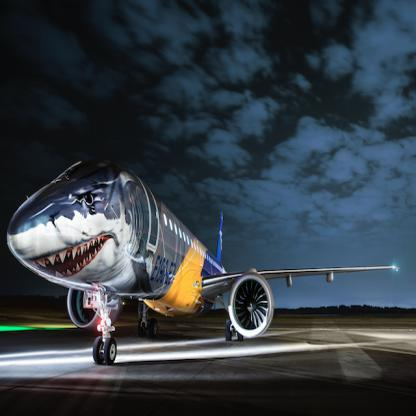CIV_Plane: (4, 154, 401, 370)
